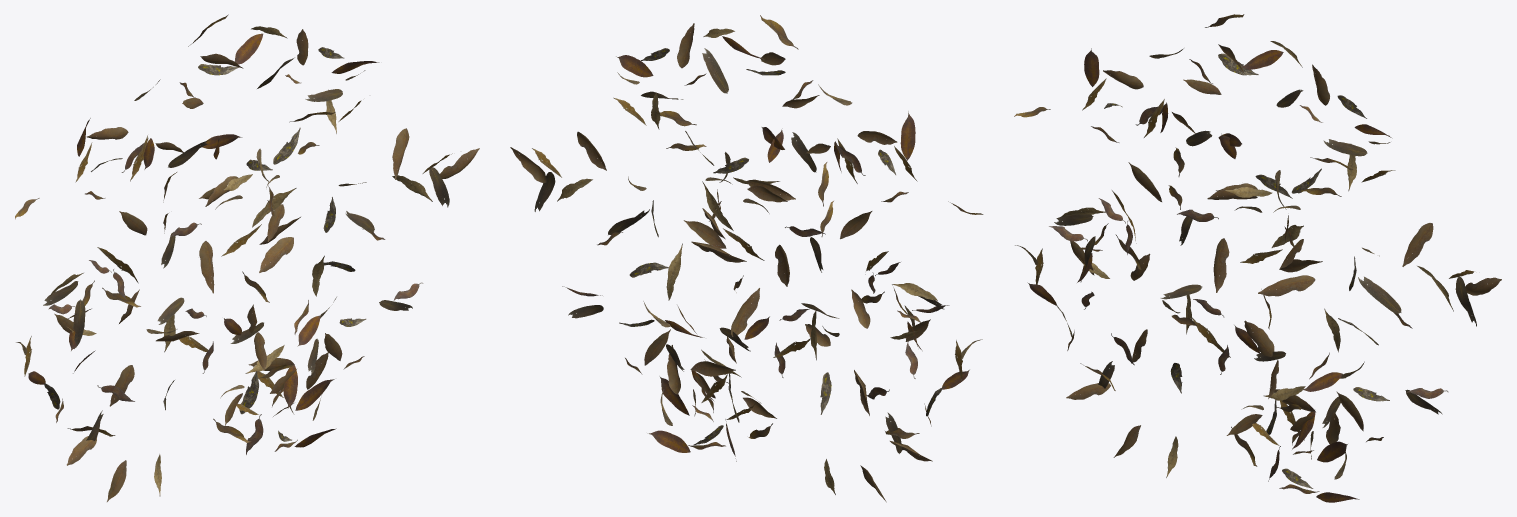
File: Leaf_Pile_03_Var3_LOD1.fbx
The picture shows the model from 3 angles, left to right: view 1: azimuth 30°, elevation 25°; view 2: azimuth 150°, elevation 25°; view 3: azimuth 330°, elevation 25°; orthographic projection. The views are drawn at different scales.
Visible parts, largest first — view 1: Var3_LOD1; view 2: Var3_LOD1; view 3: Var3_LOD1.
Part boxes in pixels (x1=…): Var3_LOD1: x1=15, y1=14, x2=479, y2=501; Var3_LOD1: x1=510, y1=15, x2=983, y2=502; Var3_LOD1: x1=1014, y1=14, x2=1501, y2=502.
Size of the model in its own units: 115 by 109 by 8.35.
